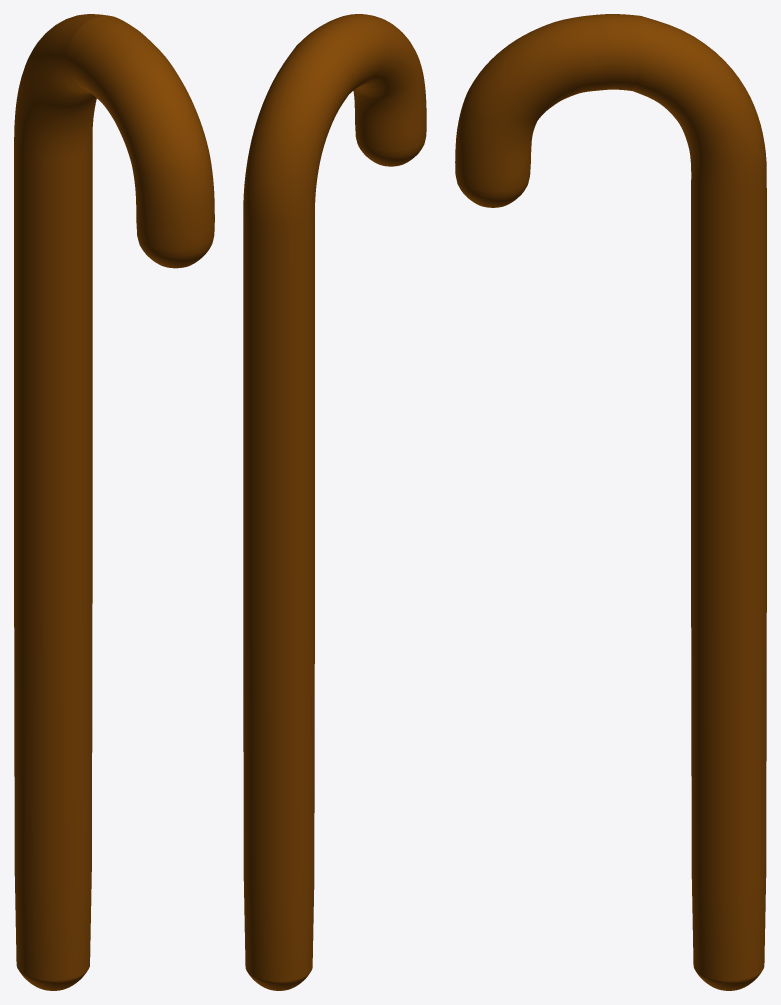
Rendered from BreadBaron_Cane.fbx.
3 renders of one model, left to right at view 1: azimuth 30°, elevation 25°; view 2: azimuth 150°, elevation 25°; view 3: azimuth 270°, elevation 25°, orthographic. The views are drawn at different scales.
Parts seen in each view (by area): view 1: pCylinder1; view 2: pCylinder1; view 3: pCylinder1.
Boxes of the visible parts, x1,y1,x2,y2 form: pCylinder1: (14, 14, 214, 990); pCylinder1: (243, 14, 426, 990); pCylinder1: (455, 14, 766, 990).
Bounding box in the file's own units: 0.3951 × 5.57 × 1.63.
